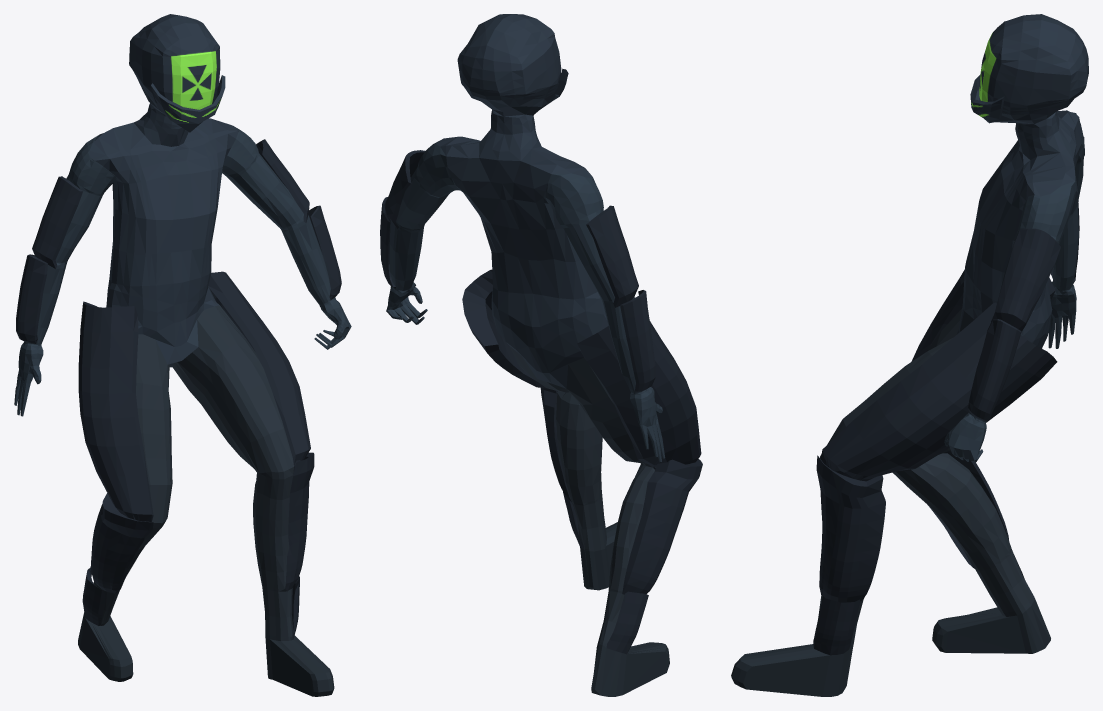
The model's file is Bastion_Die_000002.obj.
3 views of the same model, side by side, from view 1: azimuth 30°, elevation 25°; view 2: azimuth 150°, elevation 25°; view 3: azimuth 270°, elevation 25° (orthographic). The views are drawn at different scales.
Visible parts, largest first — view 1: Cube.002; view 2: Cube.002; view 3: Cube.002.
Boxes of the visible parts, x1=… form: Cube.002: x1=14, y1=14, x2=351, y2=696; Cube.002: x1=380, y1=14, x2=702, y2=696; Cube.002: x1=731, y1=14, x2=1088, y2=696.
Bounding box in the file's own units: 1.78 × 3.56 × 1.69.
